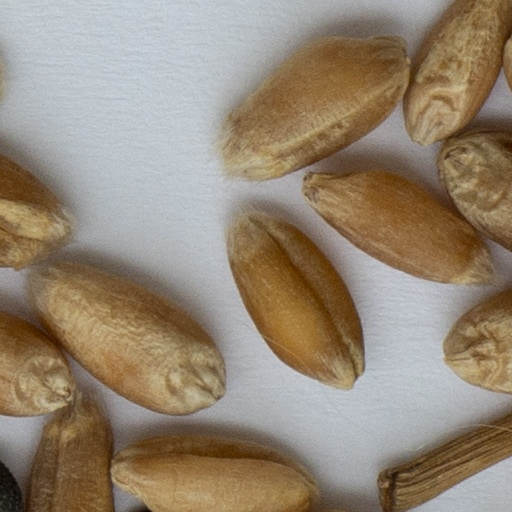Peel-poly: (377, 415, 511, 511)
